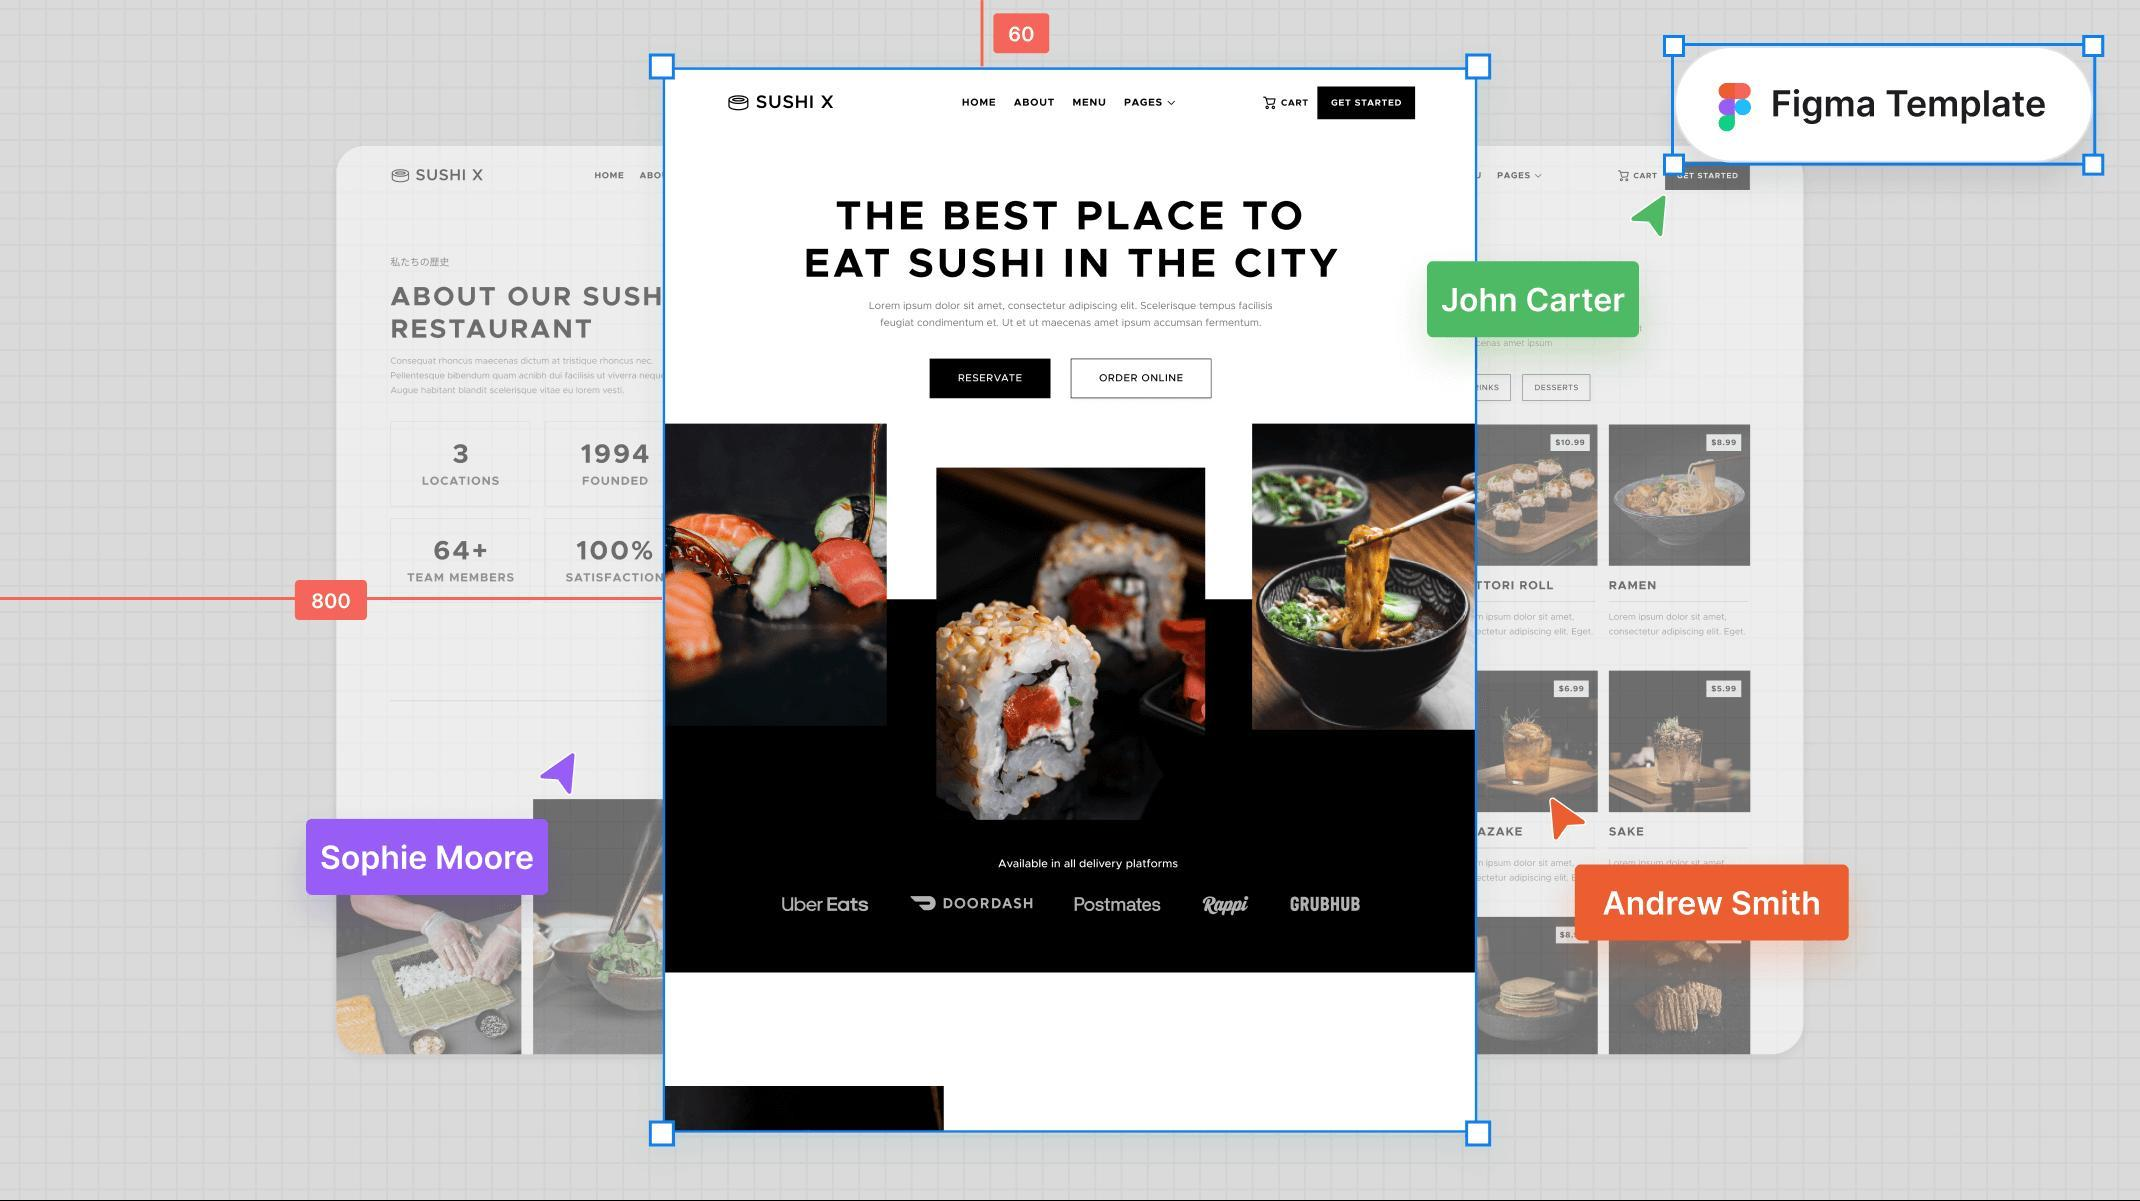button: (1573, 864, 1852, 939), (303, 817, 554, 897), (1424, 263, 1645, 343), (1069, 356, 1216, 401), (927, 357, 1054, 398), (1315, 82, 1418, 123)
icon: (1263, 93, 1279, 115)
label: (1282, 96, 1308, 112)
